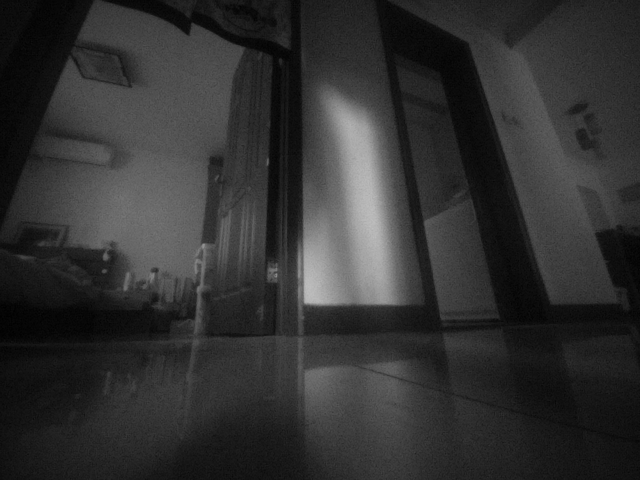Wire: (187, 141, 435, 305)
